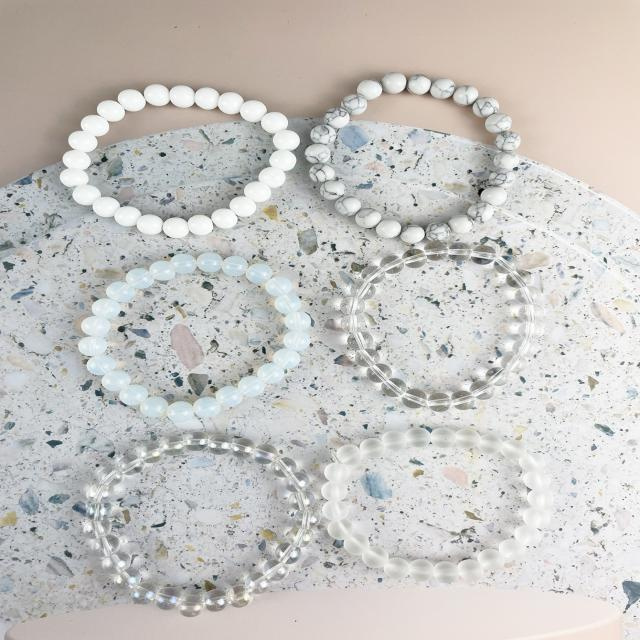bracelet: (29, 31, 302, 248), (300, 62, 610, 248), (40, 420, 326, 618), (45, 234, 317, 424), (320, 430, 570, 600), (335, 260, 624, 400)
